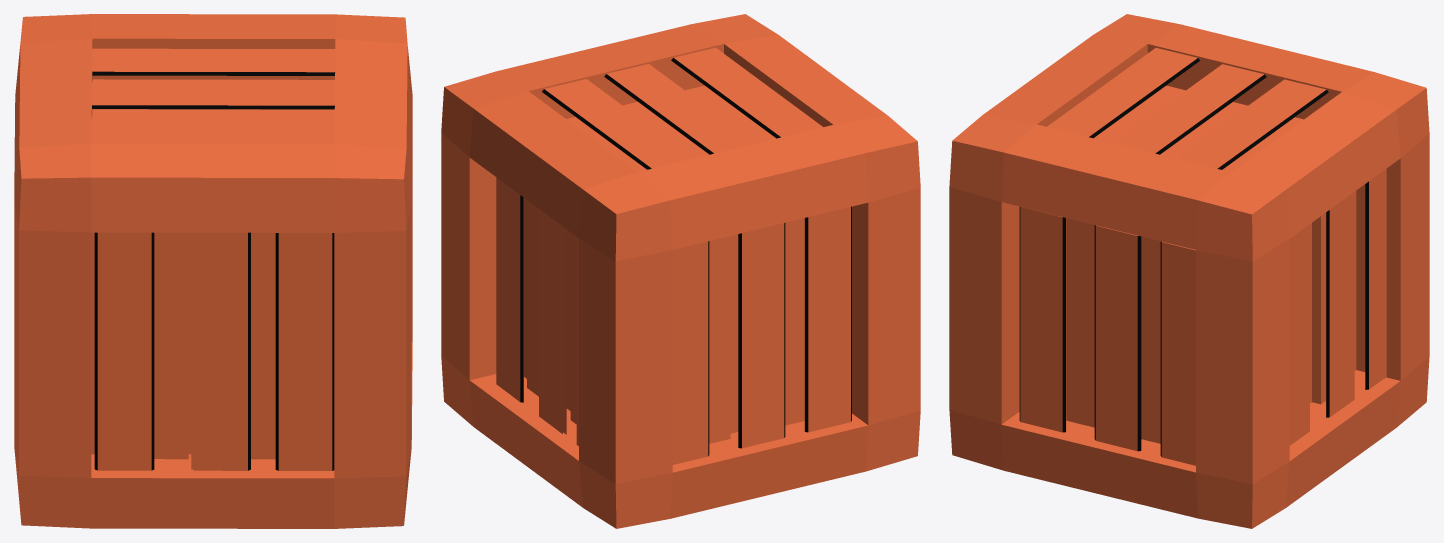
3 renders of one model, left to right at view 1: azimuth 30°, elevation 25°; view 2: azimuth 150°, elevation 25°; view 3: azimuth 270°, elevation 25°, orthographic. The views are drawn at different scales.
Visible parts, largest first — view 1: Cube.006; view 2: Cube.006; view 3: Cube.006.
Part boxes in pixels (box(x1,y1,x2,y2)): Cube.006: box(14, 14, 412, 528); Cube.006: box(441, 14, 920, 528); Cube.006: box(949, 14, 1429, 528).
Size of the model in its own units: 292 by 219 by 292.
